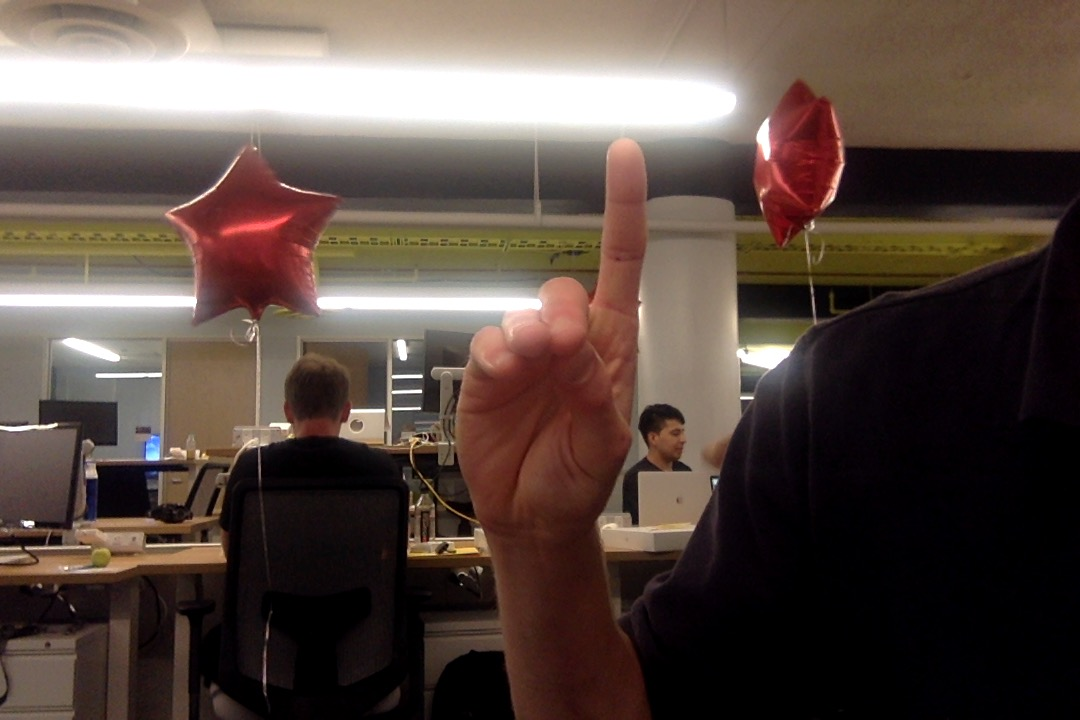d: (446, 128, 655, 552)
